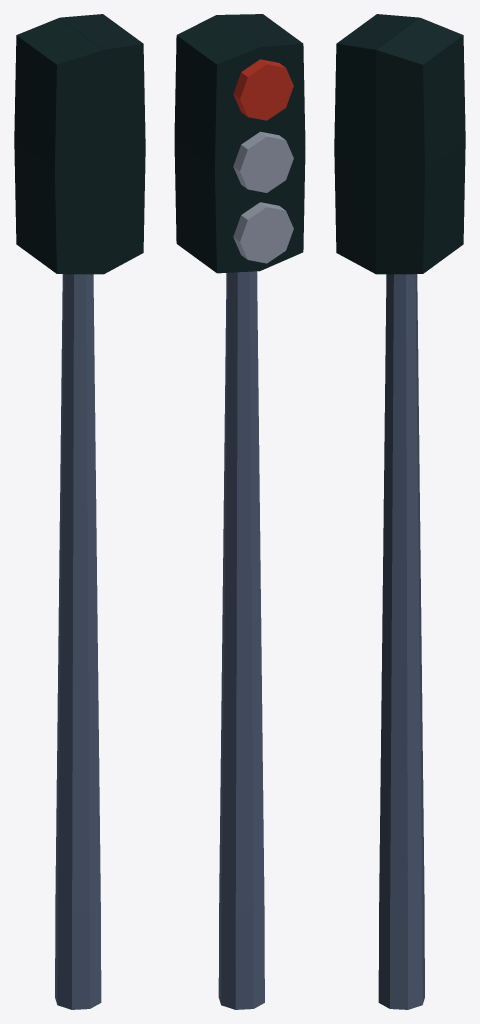
Rendered from 1c2f61db-1560-4441-a8fb-8e7a6f9beff2.glb.
3 renders of one model, left to right at view 1: azimuth 30°, elevation 25°; view 2: azimuth 210°, elevation 25°; view 3: azimuth 330°, elevation 25°, orthographic.
Parts seen in each view (by area): view 1: Node; view 2: Node; view 3: Node.
Part boxes in pixels (x1,y1,x2,y2): Node: [14, 14, 145, 1009]; Node: [174, 14, 305, 1009]; Node: [334, 14, 465, 1009].
Size of the model in its own units: 44.11 by 450 by 42.8.
Materials: 1 (1 with a texture image).
